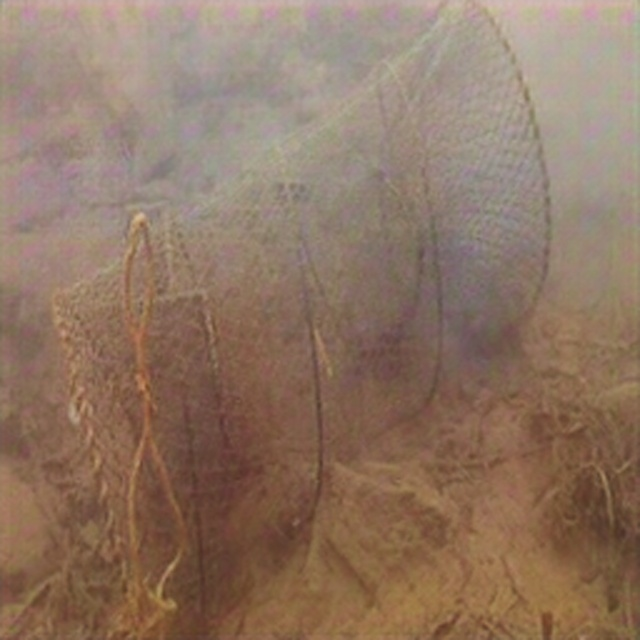mine: (49, 0, 552, 640)
